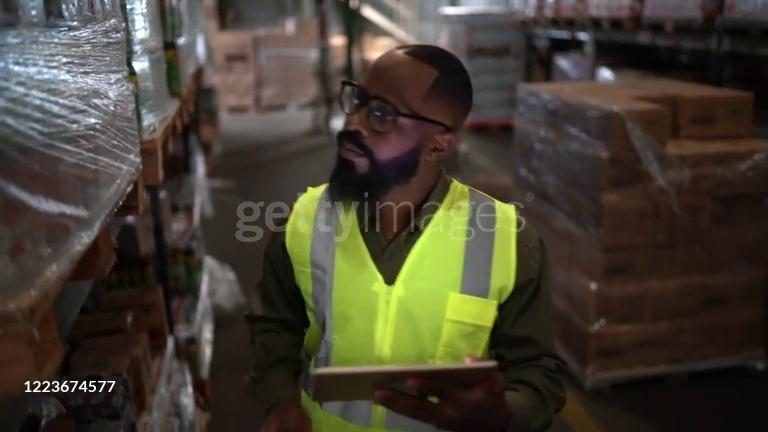person: (245, 43, 574, 432)
